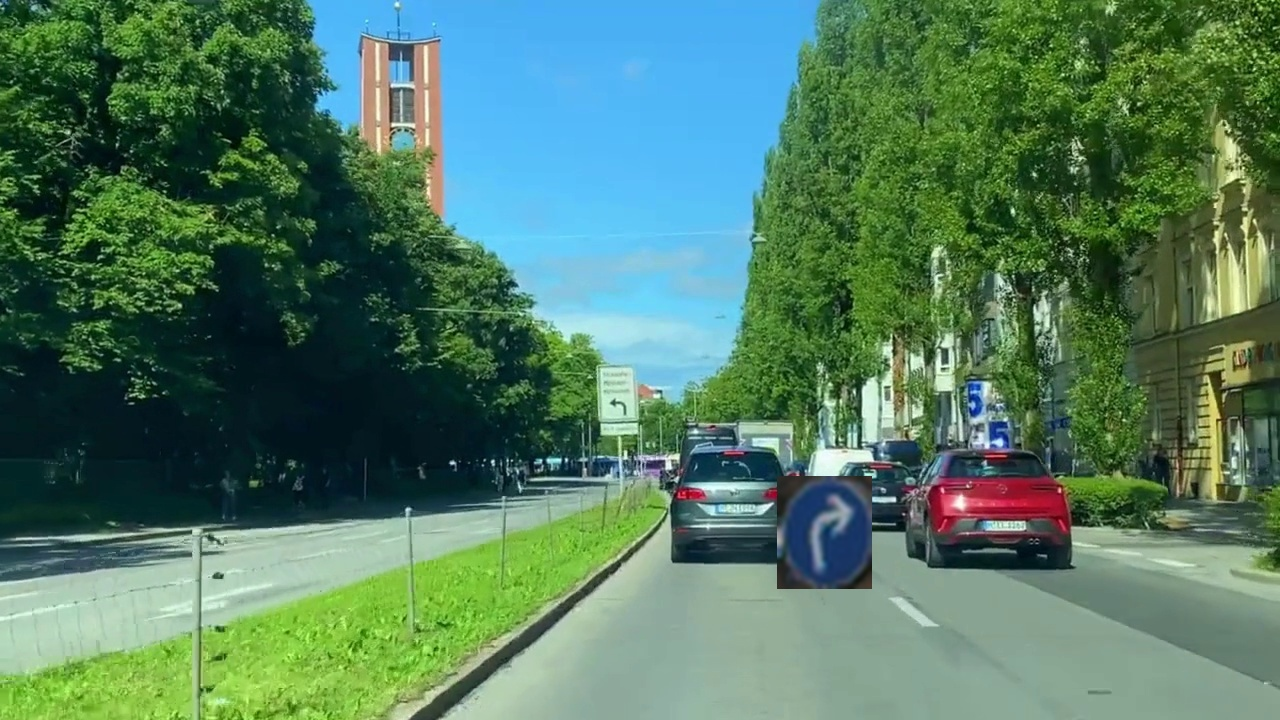Turn right: (777, 476, 872, 589)
